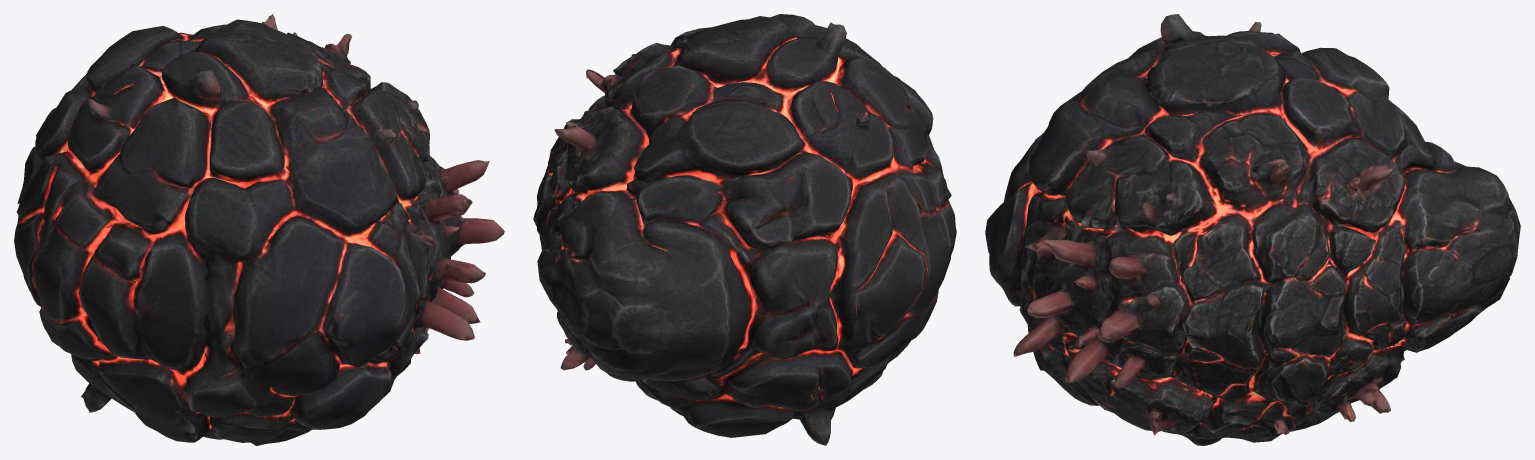
File: skarn.glb
3 views of the same model, side by side, from view 1: azimuth 30°, elevation 25°; view 2: azimuth 150°, elevation 25°; view 3: azimuth 270°, elevation 25° (orthographic). The views are drawn at different scales.
Parts seen in each view (by area): view 1: skarn-master; view 2: skarn-master; view 3: skarn-master.
Boxes of the visible parts, x1,y1,x2,y2 form: skarn-master: (14,14,504,445); skarn-master: (533,14,956,445); skarn-master: (985,14,1520,445).
Bounding box in the file's own units: 1.6 × 1.5 × 1.88.
1 material, 1 textured.
